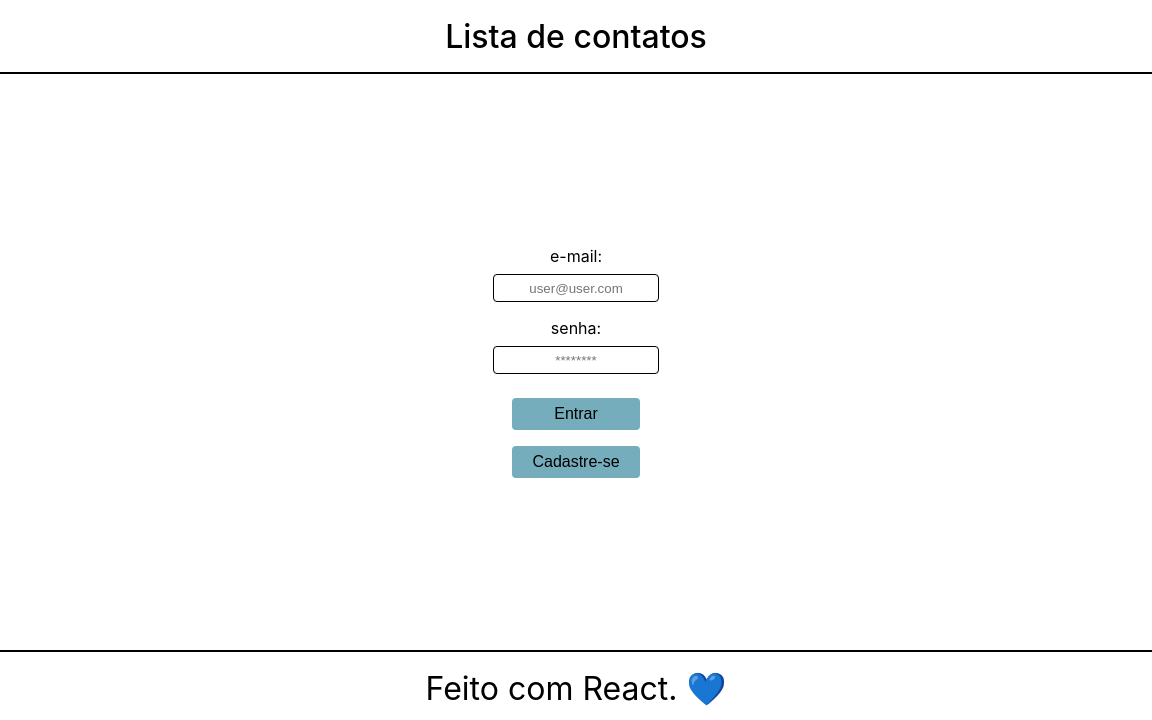
Test case: Testing login page navigation to sign up page › should got to "/signup" page
Click the button "Cadastre-se". click: (576, 462)
box: [512,446,640,478]
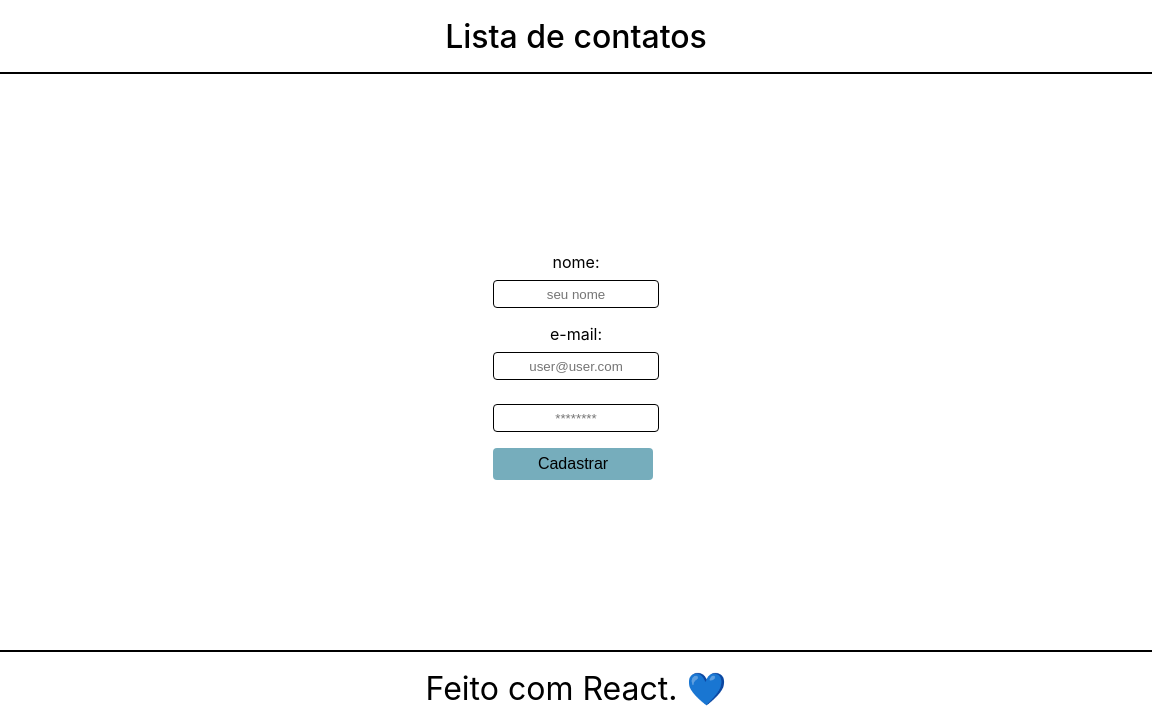
Expected: the button "Cadastrar" is shown, [493,448,653,480]
